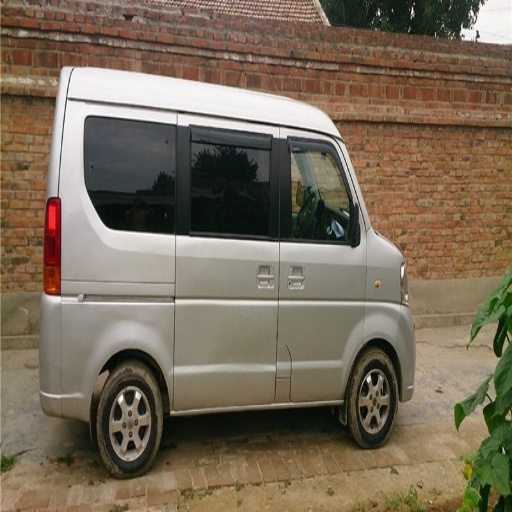trunk: (39, 259, 178, 419), (298, 301, 365, 396)
